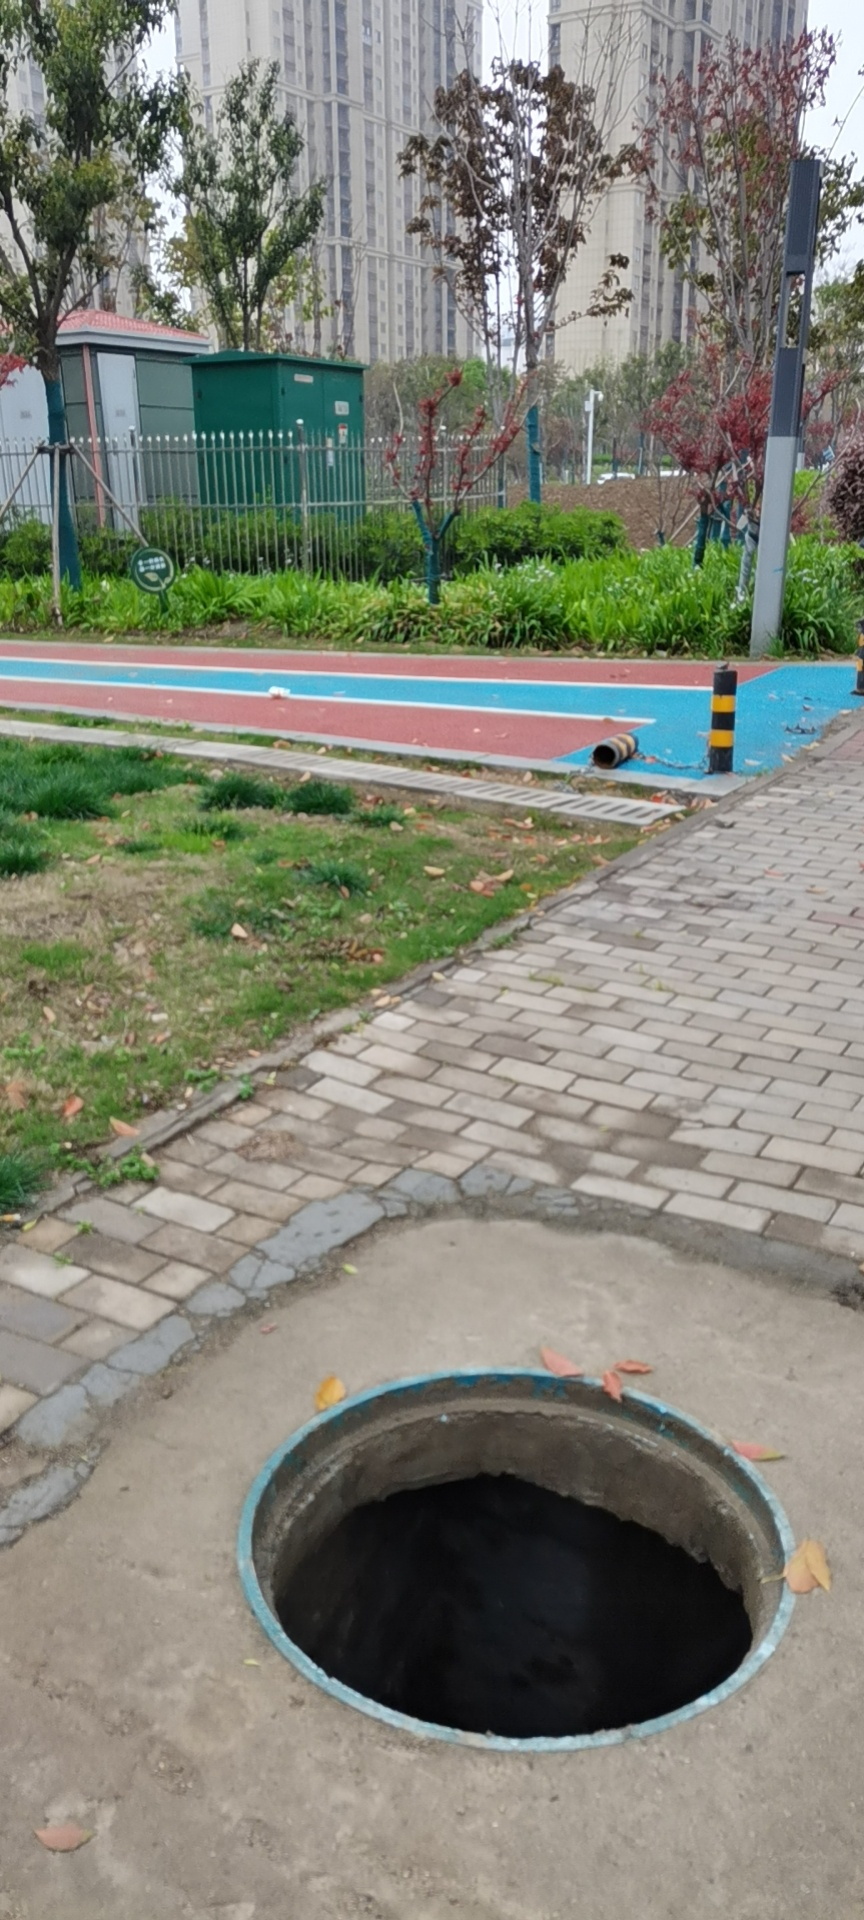lose: (237, 1360, 794, 1749)
